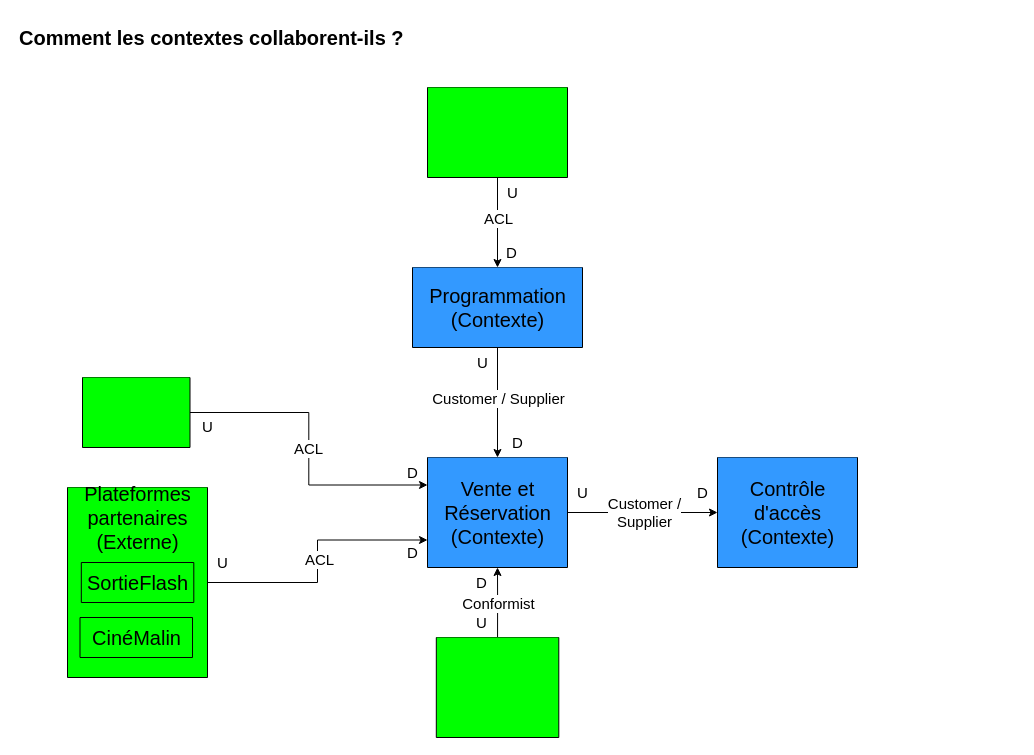
The diagram is 1034 pixels wide and 755 high, and some of its shapes have lost their labels. Here are the shapes that lost their labels. From the top down, the centre of each, then its label:
At point 497,132: "FilmoData (Externe)".
At point 136,412: "PayVia (Externe)".
At point 497,687: "Portail CNC (Externe)".
